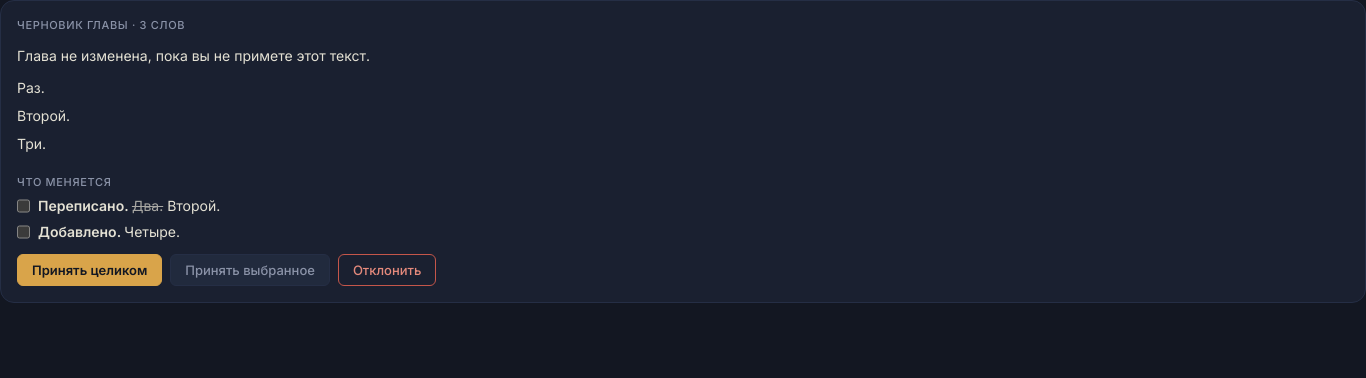
Test: ProposalPanel › конфликт версии объясняется словами, а не кодом 409
The image size is (1366, 378).
Click the button "Принять целиком" at (90, 270), box [17, 254, 162, 286]
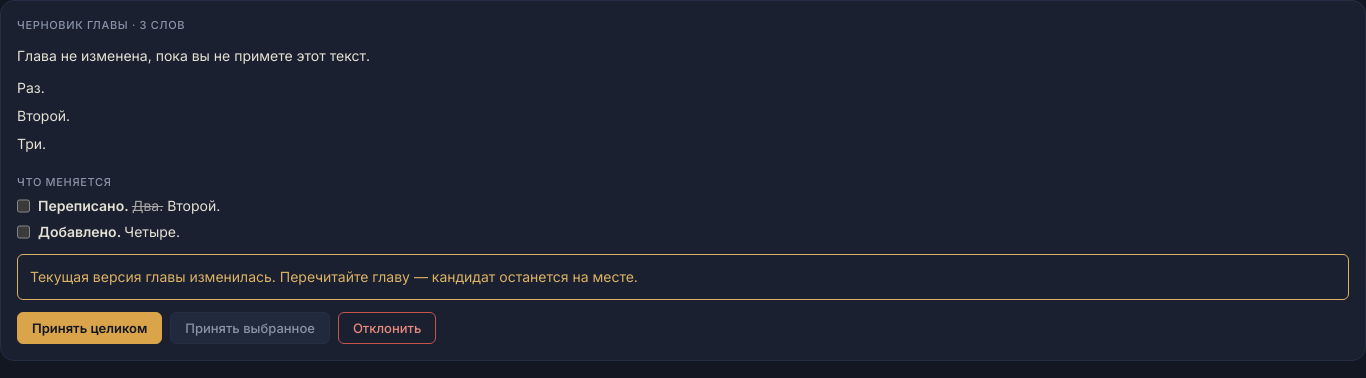
Expected: the text "Текущая версия главы изменилась" is shown, [30, 268, 638, 285]
